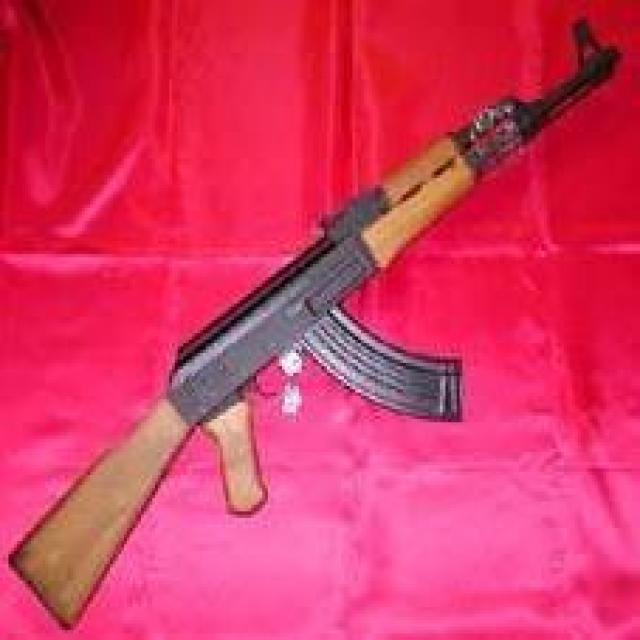Gun: (10, 29, 628, 626)
